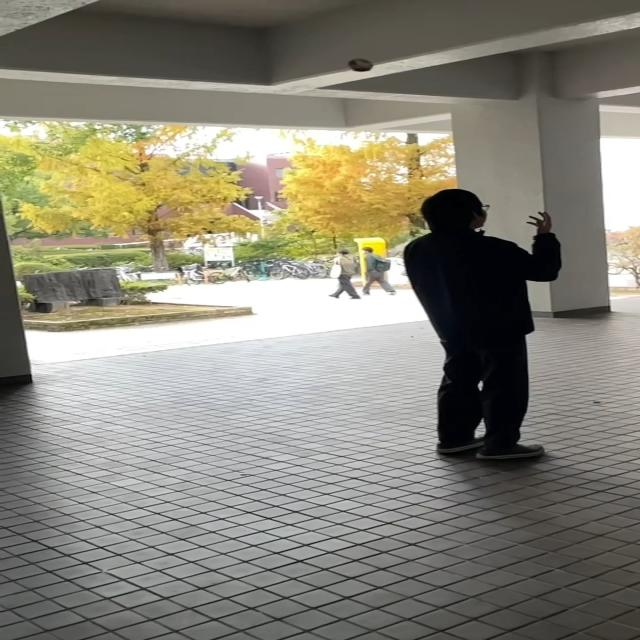paper: (346, 58, 370, 73)
